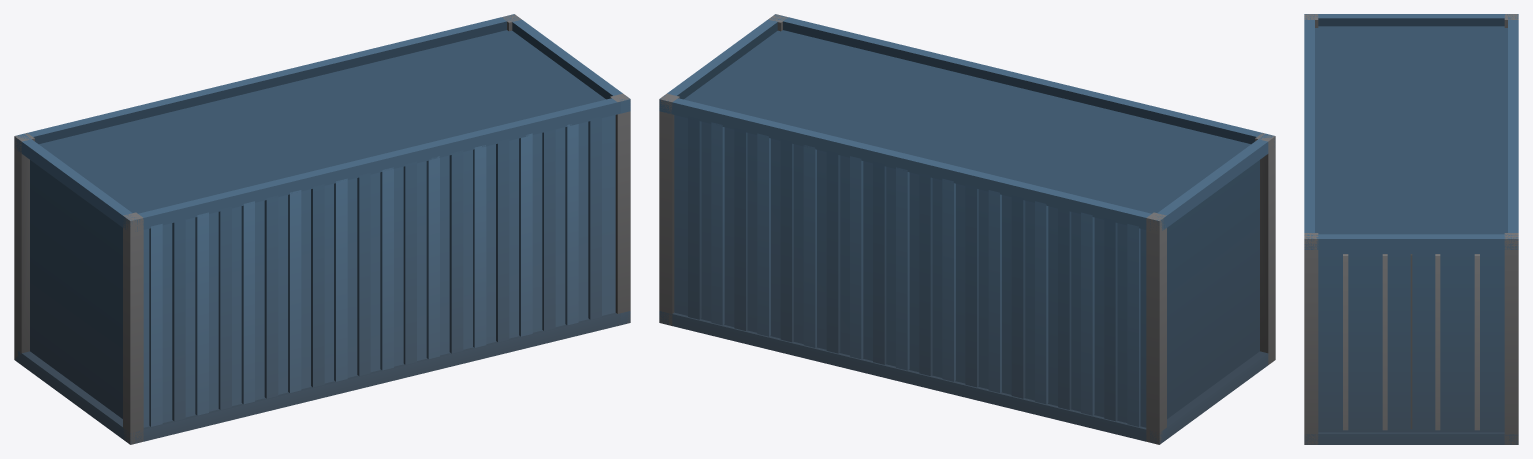
File: box_blue.glb
The picture shows the model from 3 angles, left to right: view 1: azimuth 30°, elevation 25°; view 2: azimuth 150°, elevation 25°; view 3: azimuth 270°, elevation 25°; orthographic projection. The views are drawn at different scales.
Visible parts, largest first — view 1: box_blue; view 2: box_blue; view 3: box_blue.
Boxes of the visible parts, left/top/right/bottom form: box_blue: left=14, top=14, right=630, bottom=444; box_blue: left=659, top=14, right=1275, bottom=444; box_blue: left=1304, top=14, right=1518, bottom=444.
Size of the model in its own units: 6.09 by 2.59 by 2.44.
